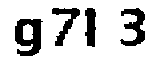3: (116, 6, 149, 52)
7: (49, 5, 79, 50)
g: (11, 16, 42, 60)
l: (83, 5, 105, 52)
